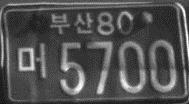0: (116, 40, 147, 95), (148, 40, 178, 94), (116, 9, 134, 37)
5: (58, 40, 85, 95)
7: (85, 40, 113, 97)
8: (97, 11, 115, 36)
머: (17, 40, 47, 81)
부산_O: (49, 10, 94, 35)
